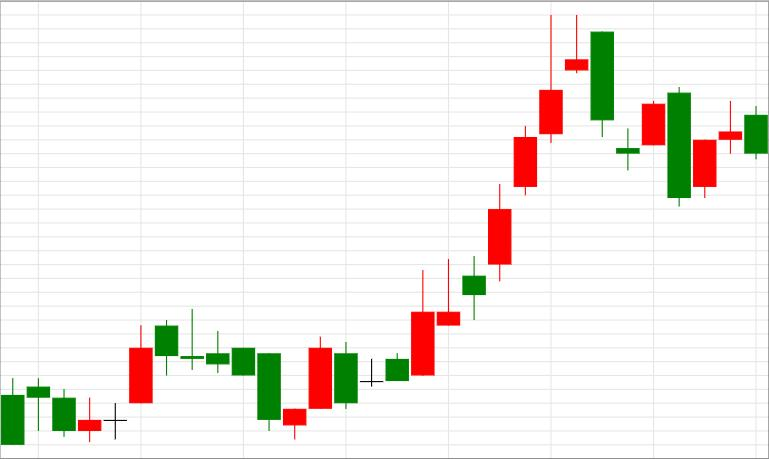shooting_star_fall: (412, 17, 562, 375)
